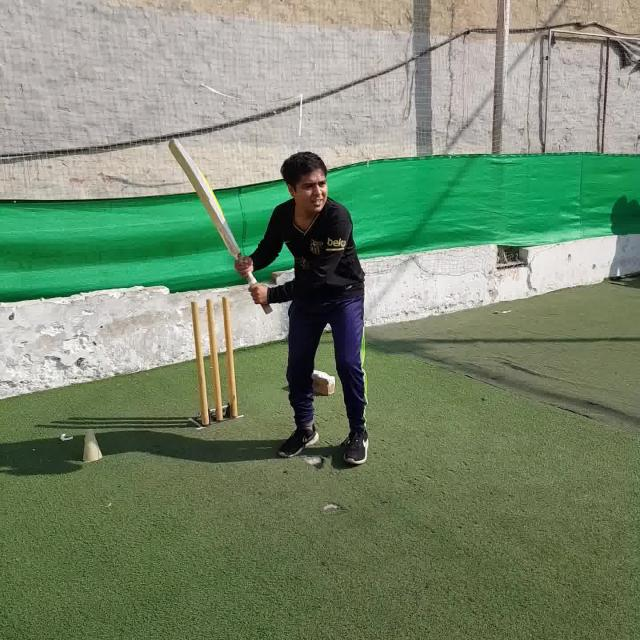bat: (168, 137, 273, 315)
